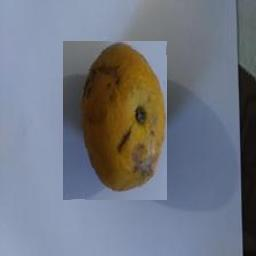Orange Semirotten: (64, 42, 168, 201)
